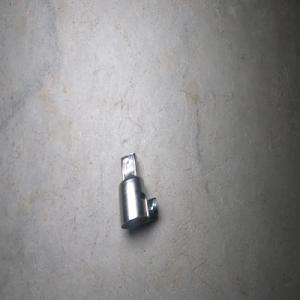MetalPart: (118, 151, 158, 229)
